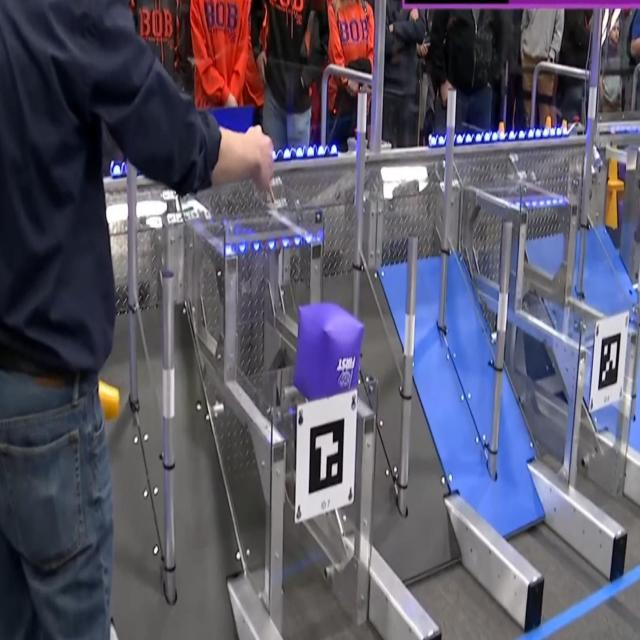frc_cone: (98, 380, 120, 419), (608, 153, 626, 191), (606, 187, 618, 227)
frc_cube: (294, 303, 360, 394)
